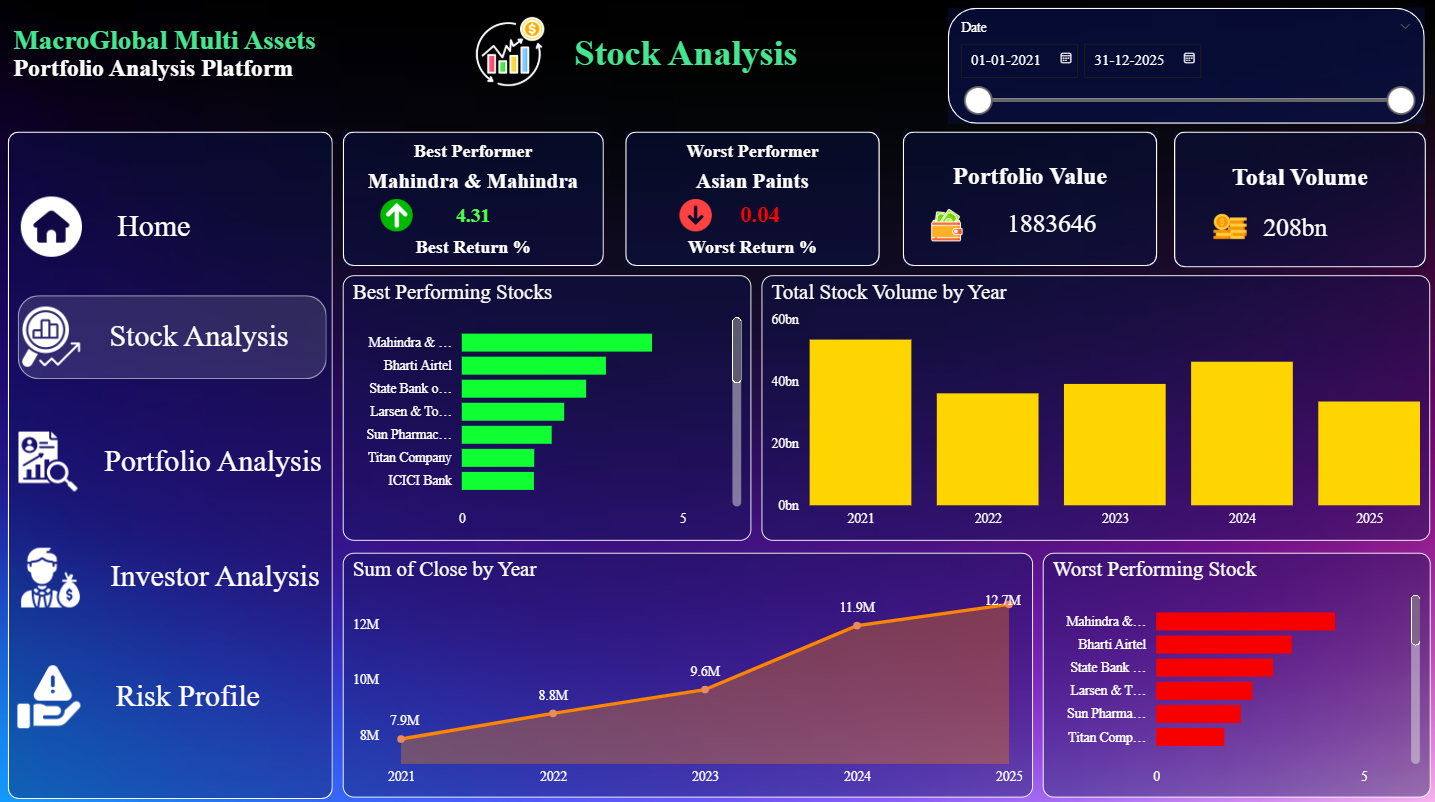

This screenshot's page, from the dashboard's own definition file:
{"tool":"powerbi","page":{"name":"Stock Analysis","canvas":[1280,720],"ordinal":1},"visuals":[{"type":"shape","box":[8.3,117.2,289,593.3],"z":0,"group":"g1"},{"type":"image","box":[17.8,175.2,57.5,53.8],"z":0,"group":"g2"},{"type":"shape","box":[16.6,262.9,274.8,74.6],"z":0},{"type":"group","id":"g1","title":"Group 10","box":[8.3,117.2,289,593.3],"z":1000},{"type":"actionButton","box":[89.9,182.1,193,40.3],"z":1000,"group":"g2"},{"type":"shape","box":[843.2,8.3,424,103],"z":2000},{"type":"textbox","box":[412.1,24.9,364.8,86.5],"z":3000},{"type":"shape","box":[305.6,117.2,232.1,119.6],"z":3000,"group":"g4"},{"type":"textbox","box":[8.3,0,297.3,138.6],"z":4000},{"type":"image","box":[421.6,15.4,66.3,62.8],"z":5000},{"type":"group","id":"g2","title":"Group 1","box":[17.8,175.2,265.3,53.3],"z":5000,"group":"g1"},{"type":"clusteredBarChart","title":"Best Performing Stocks","fields":{"Y":["Measure.Best Return %"],"Category":["Dim_Assets.AssetName"]},"box":[305.6,245.2,363.6,235.7],"z":6000},{"type":"group","id":"g3","title":"Group 2","box":[16.6,272.3,279.5,53.3],"z":6000,"group":"g1"},{"type":"image","box":[16.6,375.4,56.4,71.1],"z":6000,"group":"g8"},{"type":"image","box":[17.8,480.8,56.4,66.3],"z":7000,"group":"g9"},{"type":"clusteredBarChart","title":"Worst Performing Stock","fields":{"Y":["Measure.Worst Return %"],"Category":["Dim_Assets.AssetName"]},"box":[927.3,492.7,344.6,217.9],"z":7000},{"type":"lineChart","title":"Sum of Close by Year","fields":{"Category":["Dim_Date.Year"],"Y":["Sum(Fact_Stocks.Close)"]},"box":[305.6,492.7,613.5,217.9],"z":8000},{"type":"image","box":[16.6,592.1,58,55.7],"z":8000,"group":"g10"},{"type":"columnChart","title":"Total Stock Volume by Year","fields":{"Category":["Dim_Date.Year"],"Y":["Measure.Total Stock Volume"]},"box":[677.4,245.2,594.5,235.7],"z":9000},{"type":"actionButton","title":"Stock Analysis","box":[85.6,391.2,210.5,40.3],"z":9000,"group":"g8"},{"type":"group","id":"g4","title":"Group 3","box":[305.6,117.2,232.1,119.6],"z":10000},{"type":"actionButton","title":"Stock Analysis","box":[91.4,493.4,205.9,40.3],"z":10000,"group":"g9"},{"type":"group","id":"g5","title":"Group 4","box":[556.6,117.2,226.2,119.6],"z":11000},{"type":"card","fields":{"Values":["Measure.Best Performing Stock"]},"box":[305.6,146.8,232.1,30.9],"z":11000,"group":"g4"},{"type":"actionButton","title":"Stock Analysis","box":[88.8,600.4,193,40.3],"z":11000,"group":"g10"},{"type":"group","id":"g6","title":"Group 5","box":[803,117.2,226.2,119.6],"z":12000},{"type":"card","fields":{"Values":["Measure.Best Return %"]},"box":[305.6,172.5,232.1,41.2],"z":12000,"group":"g4"},{"type":"group","id":"g7","title":"Group 6","box":[1044.6,117.2,223.8,120.8],"z":13000},{"type":"textbox","box":[305.6,206.6,232.1,28.9],"z":13000,"group":"g4"},{"type":"image","box":[16.6,272.3,61.4,53.3],"z":13000,"group":"g3"},{"type":"slicer","fields":{"Values":["Dim_Date.Date"]},"box":[842,8.3,426.4,103],"z":14000},{"type":"image","box":[328.3,177.7,50.7,28.9],"z":14000,"group":"g4"},{"type":"shape","box":[556.6,117.2,226.2,119.6],"z":15000,"group":"g5"},{"type":"card","fields":{"Values":["Measure.Worst Performing Stock"]},"box":[556.6,147.1,226.2,30.9],"z":16000,"group":"g5"},{"type":"group","id":"g8","title":"Group 7","box":[16.6,375.4,279.5,71.1],"z":16000,"group":"g1"},{"type":"card","fields":{"Values":["Measure.Worst Return %"]},"box":[569.6,177,213.2,28.9],"z":17000,"group":"g5"},{"type":"actionButton","title":"Stock Analysis","box":[91.8,279.4,204.3,40.3],"z":17000,"group":"g3"},{"type":"group","id":"g9","title":"Group 8","box":[17.8,480.8,279.5,66.3],"z":17000,"group":"g1"},{"type":"textbox","box":[556.6,205.9,226.2,28.9],"z":18000,"group":"g5"},{"type":"group","id":"g10","title":"Group 9","box":[16.6,592.1,265.3,55.7],"z":18000,"group":"g1"},{"type":"image","box":[594.3,177,49.4,28.9],"z":19000,"group":"g5"},{"type":"shape","box":[803,117.2,226.2,119.6],"z":20000,"group":"g6"},{"type":"card","fields":{"Values":["Measure.Portfolio Value"]},"box":[842,177.4,187.2,44.3],"z":21000,"group":"g6"},{"type":"image","box":[817.3,185.6,49.4,28.9],"z":22000,"group":"g6"},{"type":"shape","box":[1044.6,117.2,223.8,120.8],"z":23000,"group":"g7"},{"type":"card","fields":{"Values":["Measure.Total Stock Volume"]},"box":[1061.4,180,182.4,44.8],"z":24000,"group":"g7"},{"type":"image","box":[1061.4,187.3,66.3,29.2],"z":25000,"group":"g7"}]}

Visuals, with their boxes in screenshot pixels (x1, y1, x2, y2), scaled from the page's 1280x720 canvas onto the 1435x802 screenshot:
shape: <box>9,131,333,791</box>
image: <box>20,195,84,255</box>
shape: <box>19,293,327,376</box>
"Group 10" group: <box>9,131,333,791</box>
actionButton: <box>101,203,317,248</box>
shape: <box>945,9,1421,124</box>
textbox: <box>462,28,871,124</box>
shape: <box>343,131,603,264</box>
textbox: <box>9,0,343,154</box>
image: <box>473,17,547,87</box>
"Group 1" group: <box>20,195,317,255</box>
"Best Performing Stocks" clusteredBarChart: <box>343,273,750,536</box>
"Group 2" group: <box>19,303,332,363</box>
image: <box>19,418,82,497</box>
image: <box>20,536,83,609</box>
"Worst Performing Stock" clusteredBarChart: <box>1040,549,1426,792</box>
"Sum of Close by Year" lineChart: <box>343,549,1030,792</box>
image: <box>19,660,84,722</box>
"Total Stock Volume by Year" columnChart: <box>759,273,1426,536</box>
"Stock Analysis" actionButton: <box>96,436,332,481</box>
"Group 3" group: <box>343,131,603,264</box>
"Stock Analysis" actionButton: <box>102,550,333,594</box>
"Group 4" group: <box>624,131,878,264</box>
card - Measure.Best Performing Stock: <box>343,164,603,198</box>
"Stock Analysis" actionButton: <box>100,669,316,714</box>
"Group 5" group: <box>900,131,1154,264</box>
card - Measure.Best Return %: <box>343,192,603,238</box>
"Group 6" group: <box>1171,131,1422,265</box>
textbox: <box>343,230,603,262</box>
image: <box>19,303,87,363</box>
slicer - Dim_Date.Date: <box>944,9,1422,124</box>
image: <box>368,198,425,230</box>
shape: <box>624,131,878,264</box>
card - Measure.Worst Performing Stock: <box>624,164,878,198</box>
"Group 7" group: <box>19,418,332,497</box>
card - Measure.Worst Return %: <box>639,197,878,229</box>
"Stock Analysis" actionButton: <box>103,311,332,356</box>
"Group 8" group: <box>20,536,333,609</box>
textbox: <box>624,229,878,262</box>
"Group 9" group: <box>19,660,316,722</box>
image: <box>666,197,722,229</box>
shape: <box>900,131,1154,264</box>
card - Measure.Portfolio Value: <box>944,198,1154,247</box>
image: <box>916,207,972,239</box>
shape: <box>1171,131,1422,265</box>
card - Measure.Total Stock Volume: <box>1190,200,1394,250</box>
image: <box>1190,209,1264,241</box>
